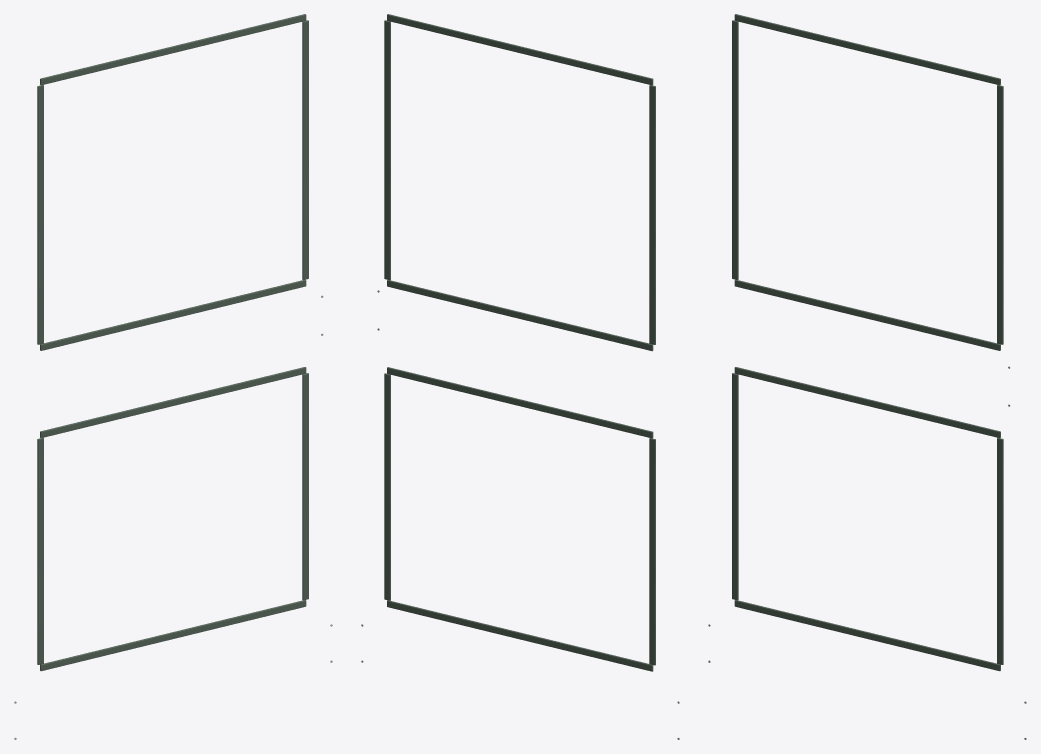
File: door_optional_detail_overlay_v3.glb
3 views of the same model, side by side, from view 1: azimuth 30°, elevation 25°; view 2: azimuth 150°, elevation 25°; view 3: azimuth 330°, elevation 25° (orthographic).
Parts seen in each view (by area): view 1: R101_panel_edge.003, R101_panel_edge.007, R101_panel_edge.002, R101_panel_edge.006, R101_panel_edge.005, R101_panel_edge.004, R101_panel_edge.001, R101_panel_edge; view 2: R101_panel_edge.007, R101_panel_edge.002, R101_panel_edge.003, R101_panel_edge.006, R101_panel_edge.005, R101_panel_edge.004, R101_panel_edge, R101_panel_edge.001; view 3: R101_panel_edge.003, R101_panel_edge.007, R101_panel_edge.002, R101_panel_edge.006, R101_panel_edge.004, R101_panel_edge.005, R101_panel_edge, R101_panel_edge.001.
Boxes of the visible parts, box(x1,y1,x2,y2) form: R101_panel_edge.003: box(40, 367, 306, 438); R101_panel_edge.007: box(40, 14, 306, 85); R101_panel_edge.002: box(40, 600, 306, 671); R101_panel_edge.006: box(40, 279, 306, 350); R101_panel_edge.005: box(302, 20, 308, 280); R101_panel_edge.004: box(37, 85, 43, 344); R101_panel_edge.001: box(302, 373, 308, 600); R101_panel_edge: box(37, 437, 43, 664); R101_panel_edge.007: box(387, 14, 653, 85); R101_panel_edge.002: box(387, 600, 653, 671); R101_panel_edge.003: box(387, 367, 653, 438); R101_panel_edge.006: box(387, 280, 653, 351); R101_panel_edge.005: box(384, 20, 390, 280); R101_panel_edge.004: box(649, 85, 655, 344); R101_panel_edge: box(649, 438, 655, 665); R101_panel_edge.001: box(384, 373, 390, 600); R101_panel_edge.003: box(734, 367, 1000, 438); R101_panel_edge.007: box(734, 14, 1000, 85); R101_panel_edge.002: box(734, 600, 1000, 671); R101_panel_edge.006: box(734, 279, 1000, 350); R101_panel_edge.004: box(732, 20, 738, 280); R101_panel_edge.005: box(997, 85, 1003, 344); R101_panel_edge: box(732, 373, 738, 600); R101_panel_edge.001: box(997, 437, 1003, 664).
Size of the model in its own units: 0.92 by 1.81 by 0.0222.
2 materials, 1 textured.
